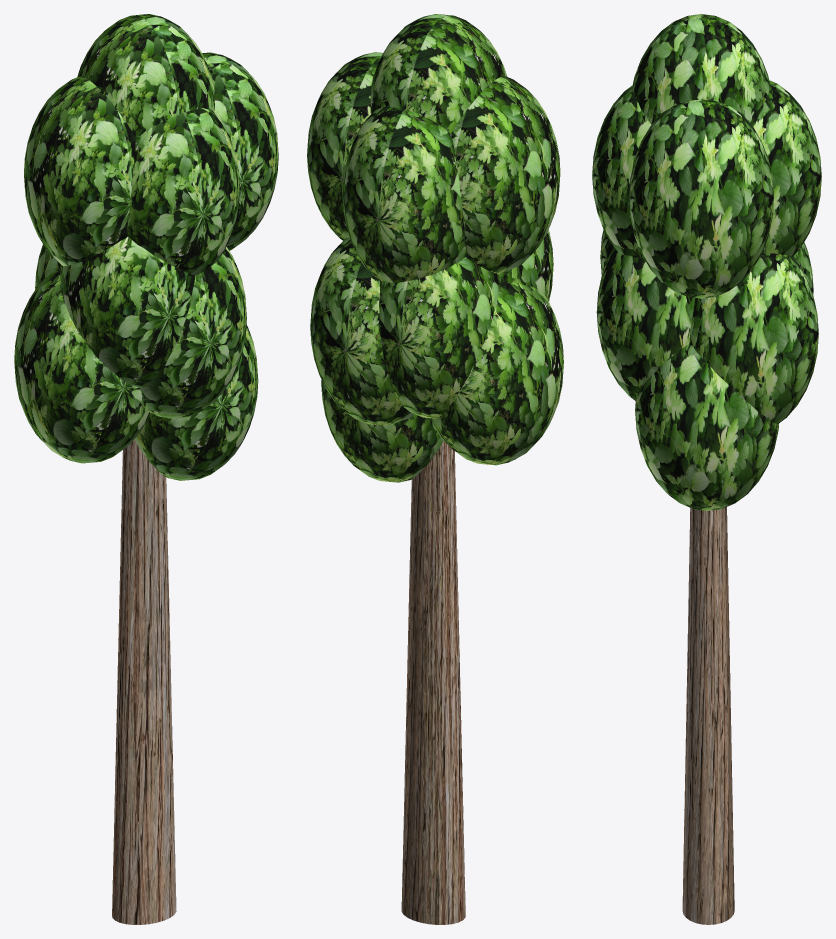
File: tree.FBX
The picture shows the model from 3 angles, left to right: view 1: azimuth 30°, elevation 25°; view 2: azimuth 150°, elevation 25°; view 3: azimuth 270°, elevation 25°; orthographic projection.
Visible parts, largest first — view 1: Cone001, Sphere003, Sphere015, Sphere005, Sphere007, Sphere001, Sphere013, Sphere008, Sphere006, Sphere014; view 2: Cone001, Sphere004, Sphere003, Sphere015, Sphere014, Sphere009, Sphere001, Sphere006, Sphere008, Sphere007; view 3: Sphere006, Cone001, Sphere008, Sphere009, Sphere001, Sphere013, Sphere004, Sphere005.
Part boxes in pixels (x1,y1,x2,y2): Cone001: [112, 439, 176, 924]; Sphere003: [24, 76, 135, 265]; Sphere015: [14, 269, 149, 463]; Sphere005: [127, 108, 239, 275]; Sphere007: [60, 237, 194, 387]; Sphere001: [77, 14, 214, 137]; Sphere013: [141, 246, 246, 418]; Sphere008: [134, 325, 258, 480]; Sphere006: [202, 52, 278, 250]; Sphere014: [35, 244, 61, 289]; Cone001: [401, 440, 465, 924]; Sphere004: [343, 107, 465, 282]; Sphere003: [451, 76, 560, 273]; Sphere015: [430, 283, 563, 465]; Sphere014: [379, 257, 500, 418]; Sphere009: [310, 237, 414, 425]; Sphere001: [370, 14, 507, 133]; Sphere006: [307, 52, 382, 240]; Sphere008: [321, 380, 443, 482]; Sphere007: [497, 230, 553, 301]; Sphere006: [629, 99, 773, 298]; Cone001: [682, 507, 734, 924]; Sphere008: [635, 343, 778, 510]; Sphere009: [689, 253, 818, 423]; Sphere001: [632, 14, 769, 126]; Sphere013: [596, 248, 695, 400]; Sphere004: [753, 80, 821, 256]; Sphere005: [592, 85, 651, 257].
Bounding box in the file's own units: 23.28 × 82.47 × 19.27.
Materials: 2 (2 with a texture image).
